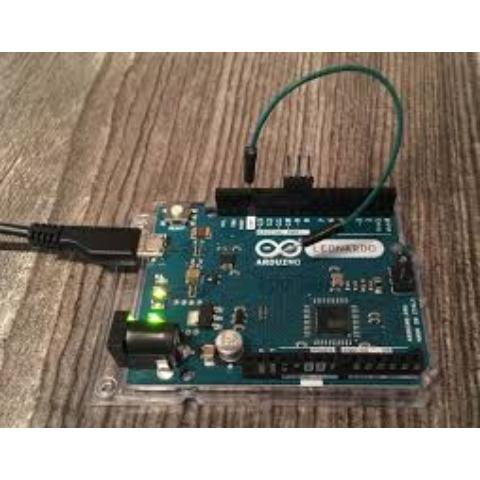Arduino-Leonardo: (104, 186, 432, 394)
